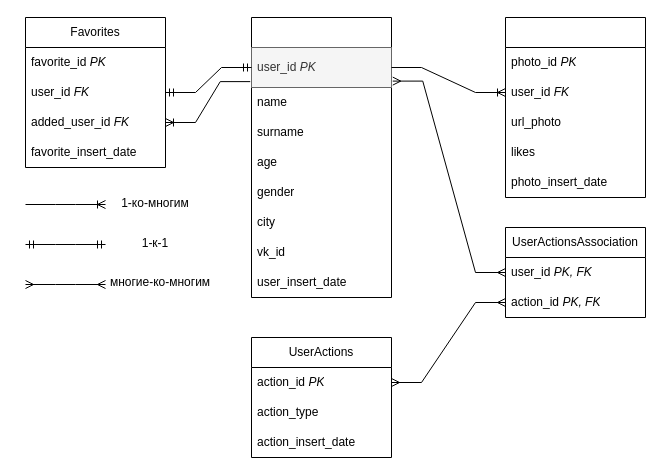
Image size: 663x475. Some labels were removed from this diagram. The box of each missing label's shape, as (x1, y1, x2, y2) in pixels:
Photos: (504, 16, 646, 198)
Users: (250, 16, 392, 298)
